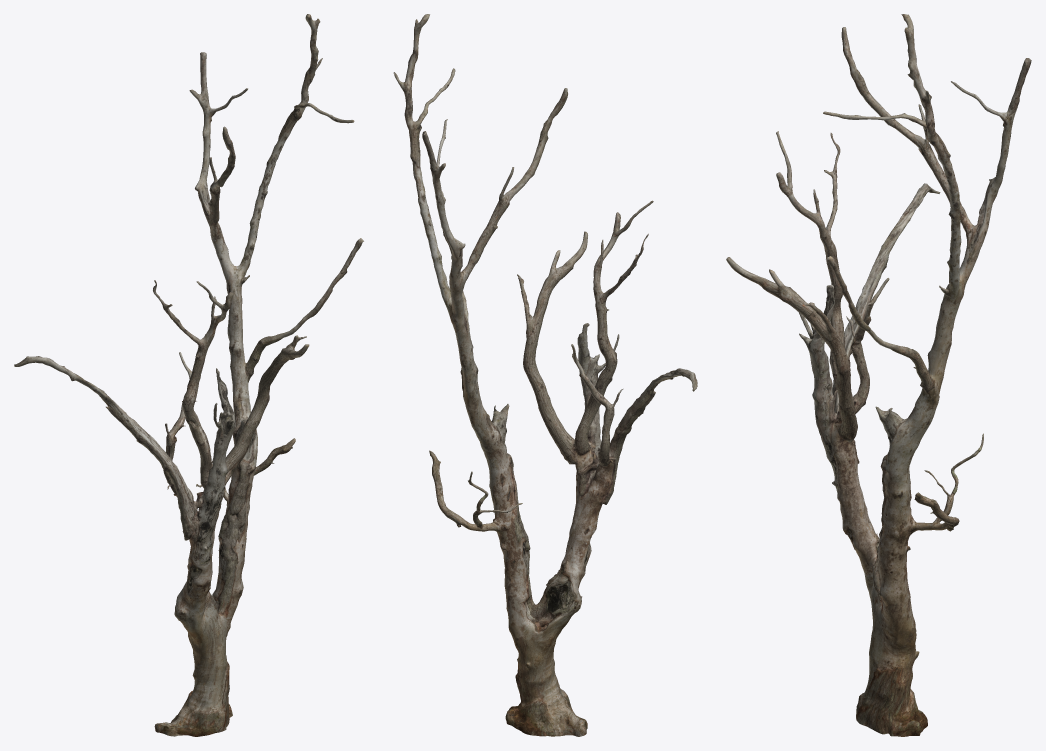
Rendered from DeadTree01.fbx.
3 views of the same model, side by side, from view 1: azimuth 30°, elevation 25°; view 2: azimuth 150°, elevation 25°; view 3: azimuth 270°, elevation 25° (orthographic). The views are drawn at different scales.
Parts seen in each view (by area): view 1: Obj3d66-598285-2-949; view 2: Obj3d66-598285-2-949; view 3: Obj3d66-598285-2-949.
Boxes of the visible parts, x1=… form: Obj3d66-598285-2-949: x1=14, y1=14, x2=363, y2=736; Obj3d66-598285-2-949: x1=393, y1=14, x2=697, y2=736; Obj3d66-598285-2-949: x1=726, y1=14, x2=1031, y2=736.
Bounding box in the file's own units: 291 × 622 × 223.
